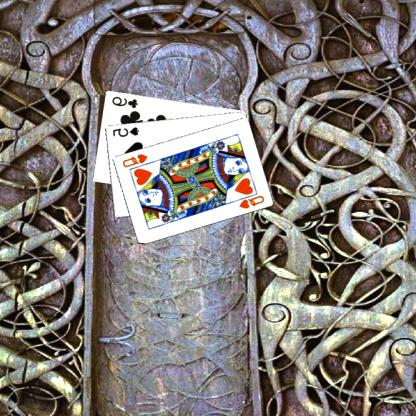5S: (111, 124, 142, 138)
9C: (111, 93, 141, 109)
QH: (233, 190, 267, 210), (121, 151, 151, 169)
